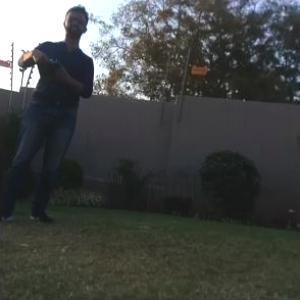follow: (0, 0, 99, 230)
